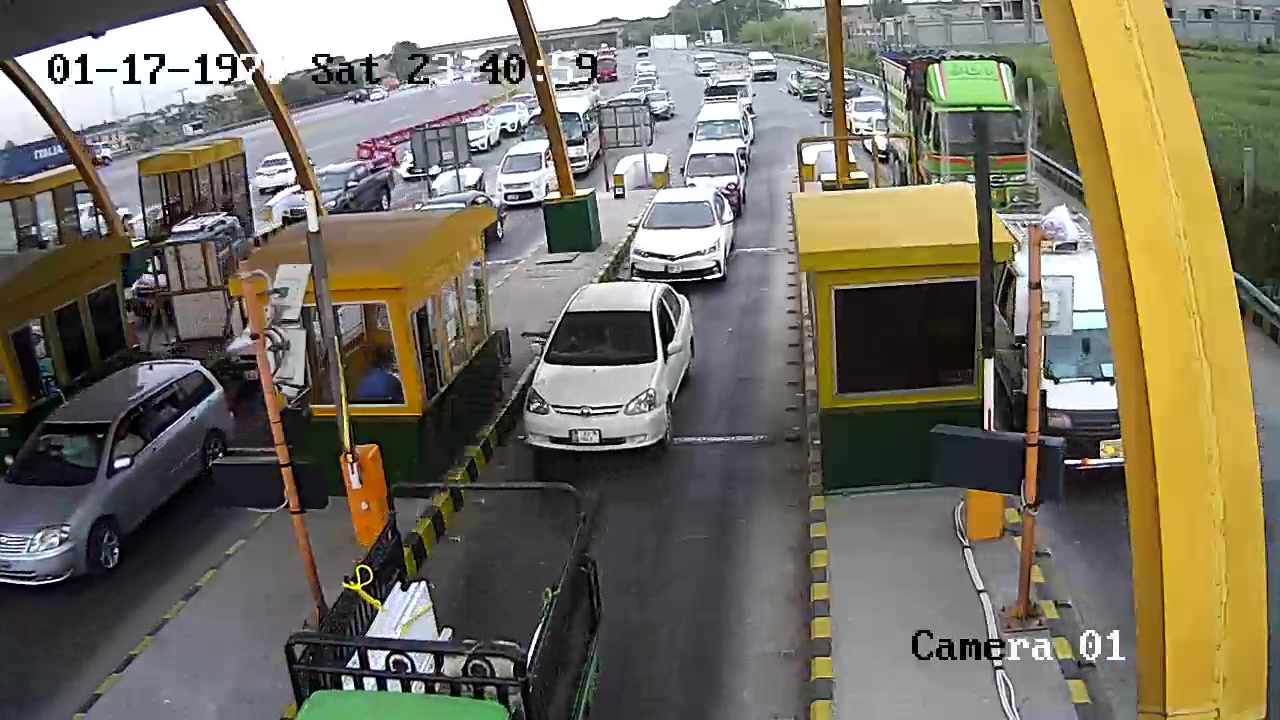F1: (518, 279, 703, 472)
